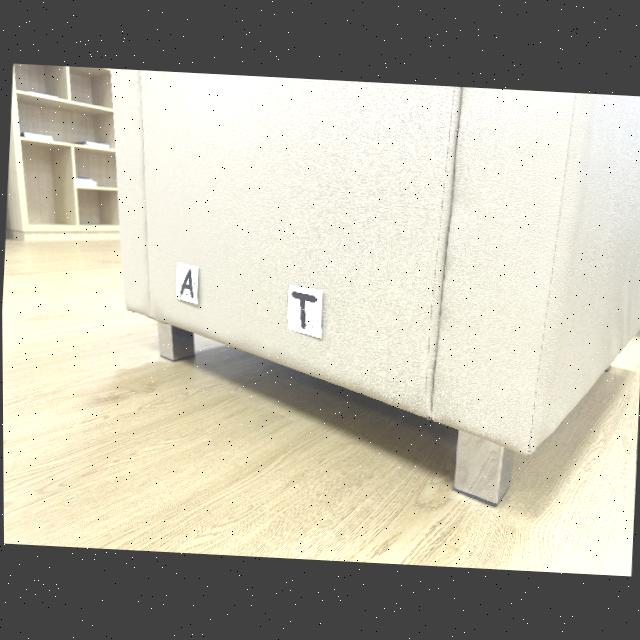A: (179, 269, 194, 298)
T: (291, 291, 316, 329)
